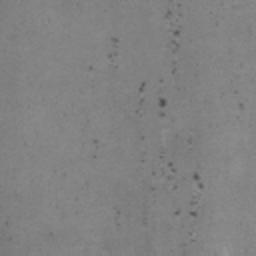Oxide scale of temperature system: (170, 26, 182, 54), (107, 36, 119, 62), (192, 172, 204, 189), (141, 203, 148, 226), (167, 161, 177, 173), (138, 81, 147, 93), (145, 234, 151, 252), (158, 97, 167, 108), (164, 9, 173, 19), (103, 241, 112, 251)
